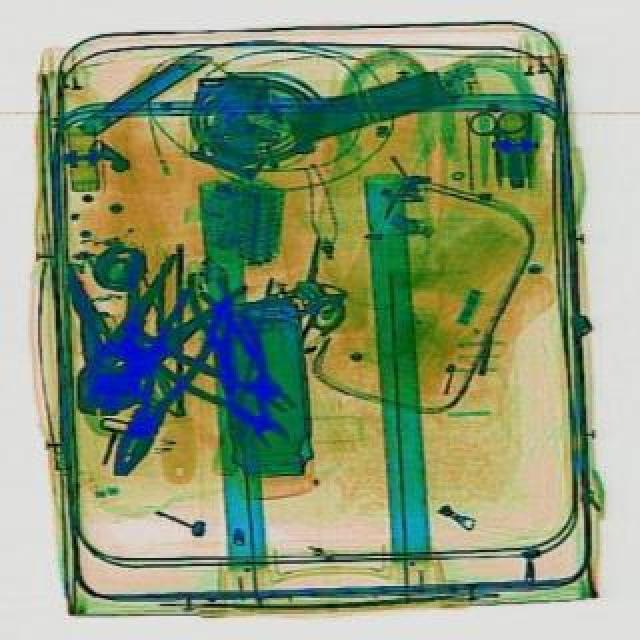wrench: (48, 236, 250, 436), (148, 298, 330, 470), (90, 276, 236, 486), (162, 300, 314, 434)
